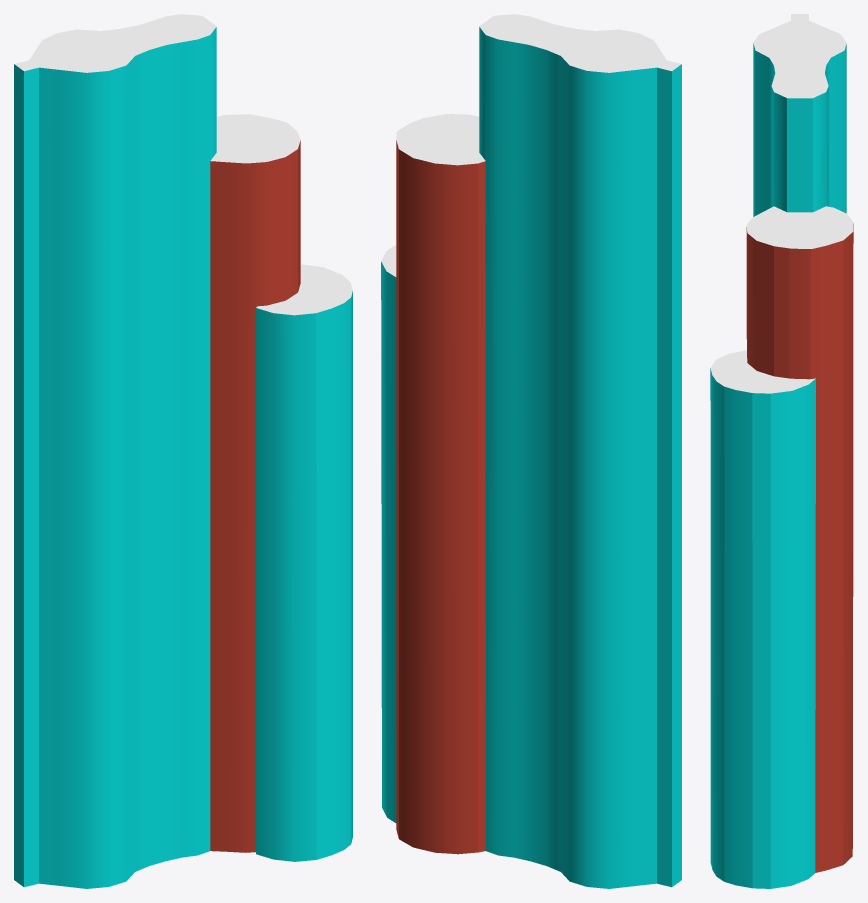
Rendered from Building_5_Blue.glb.
The picture shows the model from 3 angles, left to right: view 1: azimuth 30°, elevation 25°; view 2: azimuth 150°, elevation 25°; view 3: azimuth 270°, elevation 25°; orthographic projection. The views are drawn at different scales.
Visible parts, largest first — view 1: polySurface19; view 2: polySurface19; view 3: polySurface19.
Part boxes in pixels (box(x1,y1,x2,y2)): polySurface19: box(14, 14, 352, 888); polySurface19: box(381, 14, 681, 888); polySurface19: box(710, 14, 853, 888).
Bounding box in the file's own units: 619 × 1576 × 276.
